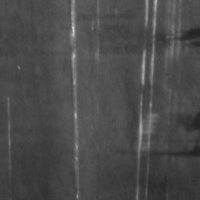inclusion: (139, 137, 200, 162), (142, 24, 198, 49), (164, 112, 200, 134)
scratches: (126, 0, 165, 197), (59, 2, 87, 198)
